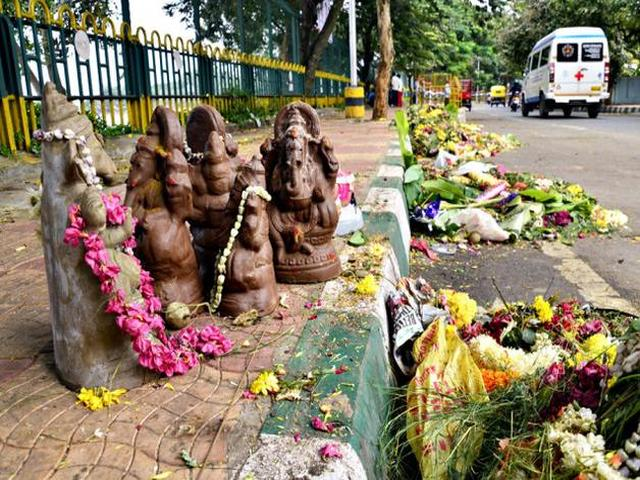garbage: (418, 322, 633, 465), (407, 111, 509, 247), (421, 167, 553, 231)
